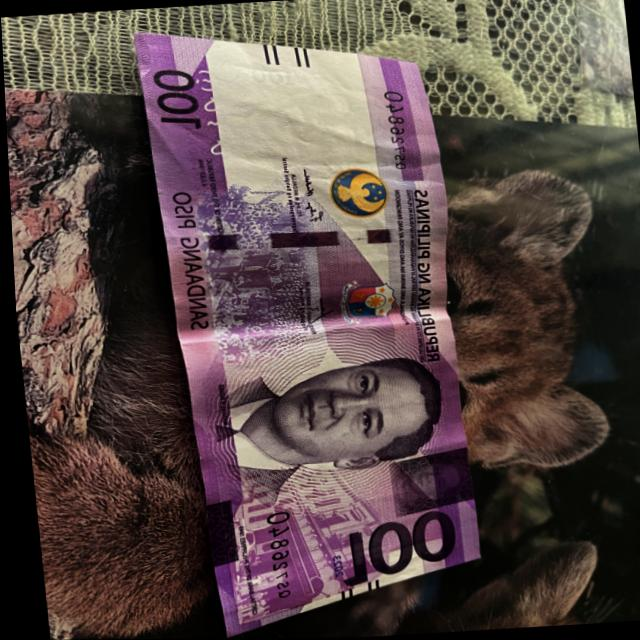concealed_value: (382, 447, 469, 519)
security_thread: (162, 220, 449, 257)
see_through_mark: (192, 67, 225, 158)
serial_number: (254, 509, 293, 601), (382, 89, 410, 172)
value: (329, 509, 454, 588)
value_watermark: (249, 69, 294, 90)
watermark: (221, 64, 390, 187)
